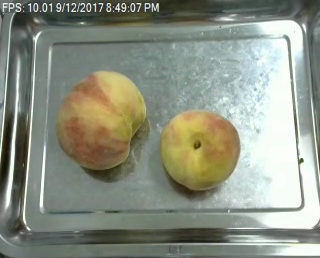Peach: (55, 68, 148, 171), (159, 108, 240, 190)
